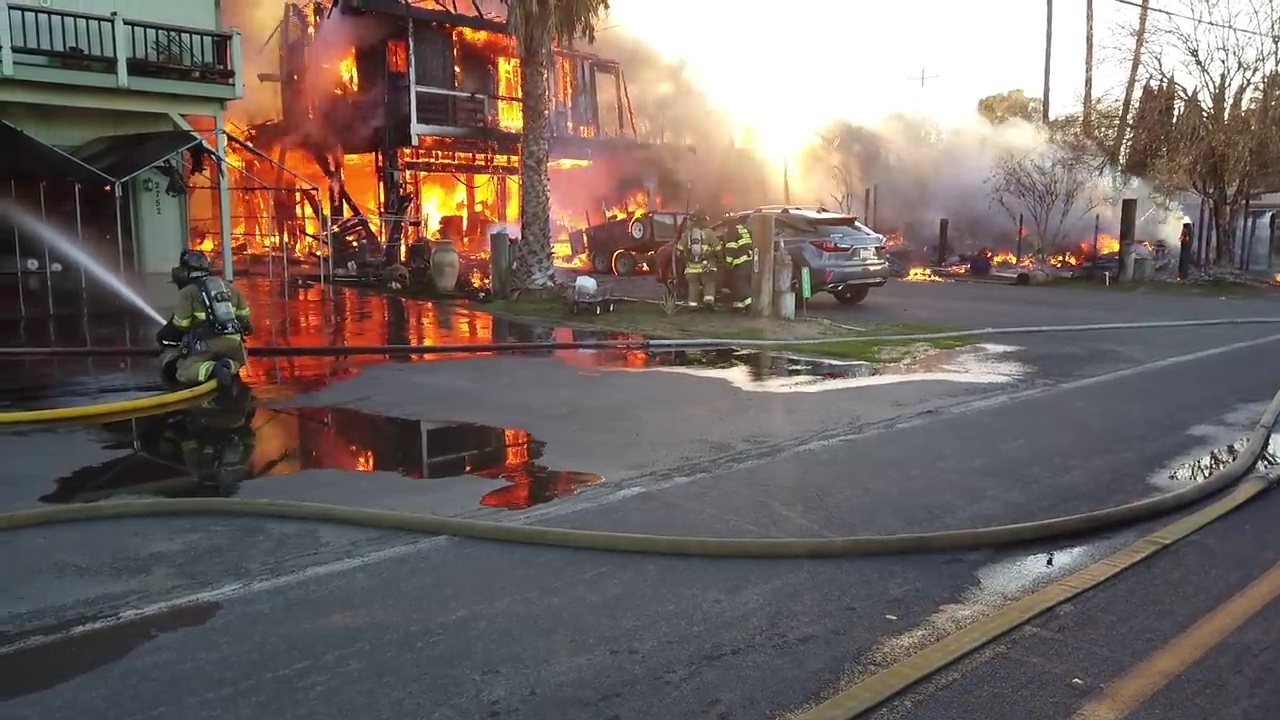fire: (171, 15, 659, 336), (604, 186, 656, 233), (331, 41, 362, 97), (900, 264, 961, 278), (300, 1, 324, 36), (986, 249, 1028, 262), (1171, 217, 1189, 242), (1048, 249, 1079, 261), (1098, 235, 1118, 251), (878, 232, 901, 244), (1138, 237, 1149, 247)
smoke: (827, 58, 1110, 239), (594, 11, 839, 211), (293, 36, 330, 117), (327, 14, 398, 40)
